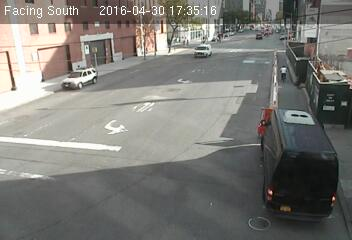neg: (117, 72, 141, 104), (190, 46, 205, 65)
pos: (277, 63, 290, 81)
